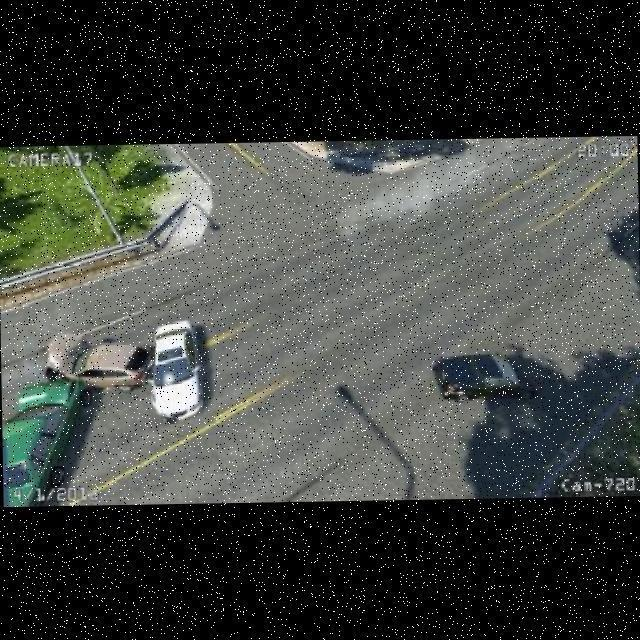accident: (15, 331, 89, 421), (125, 342, 183, 386)
